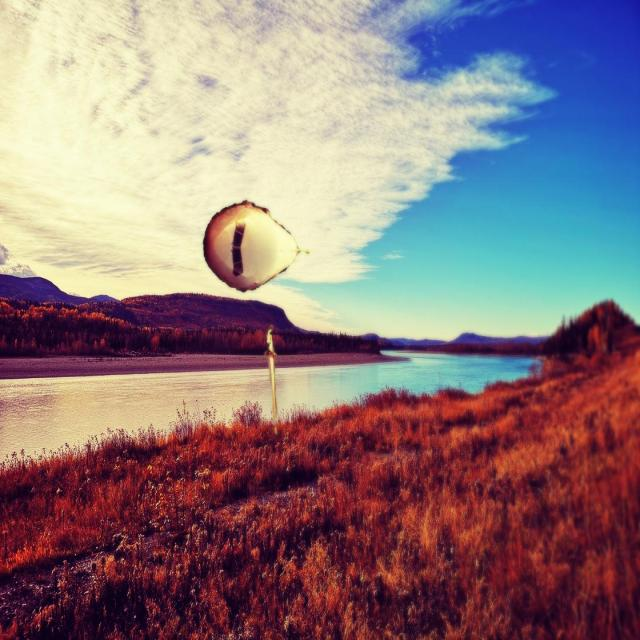airplane: (201, 199, 311, 423)
